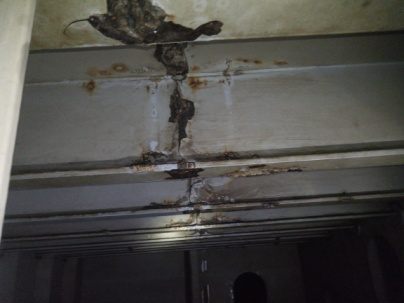corrosion: (62, 0, 224, 42), (155, 75, 200, 155), (141, 200, 247, 227), (132, 144, 225, 174), (72, 62, 140, 90), (174, 166, 224, 200), (211, 52, 285, 69), (228, 165, 300, 182), (161, 45, 197, 77)
